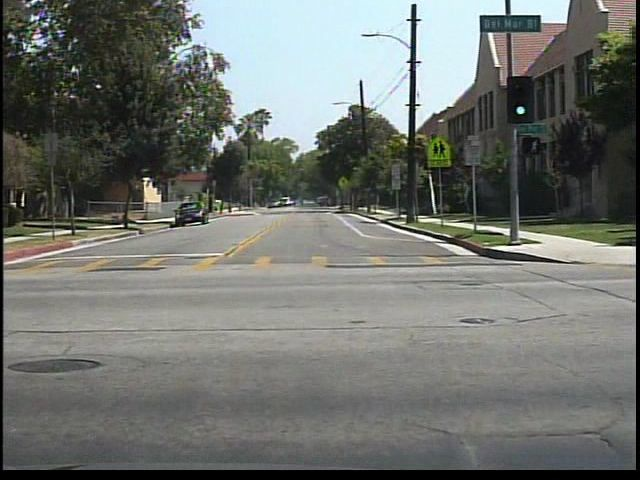person: (295, 192, 309, 210)
